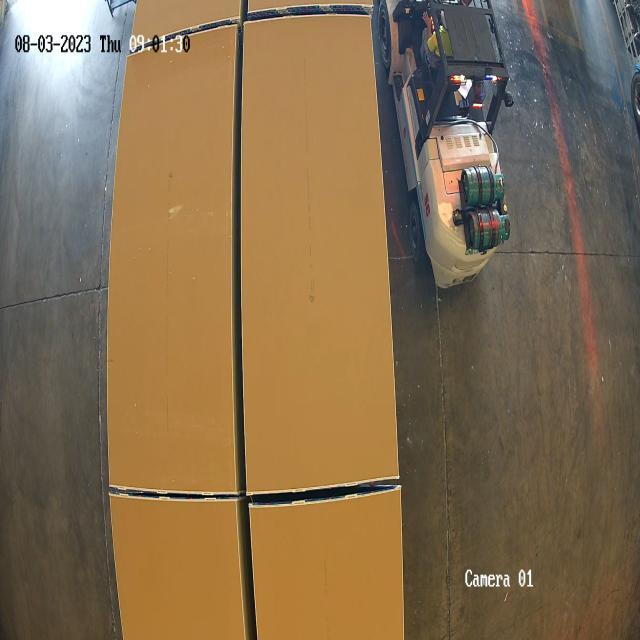driver: (422, 5, 452, 68)
forklift: (387, 0, 516, 302)
